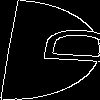D: (25, 25, 100, 66)
